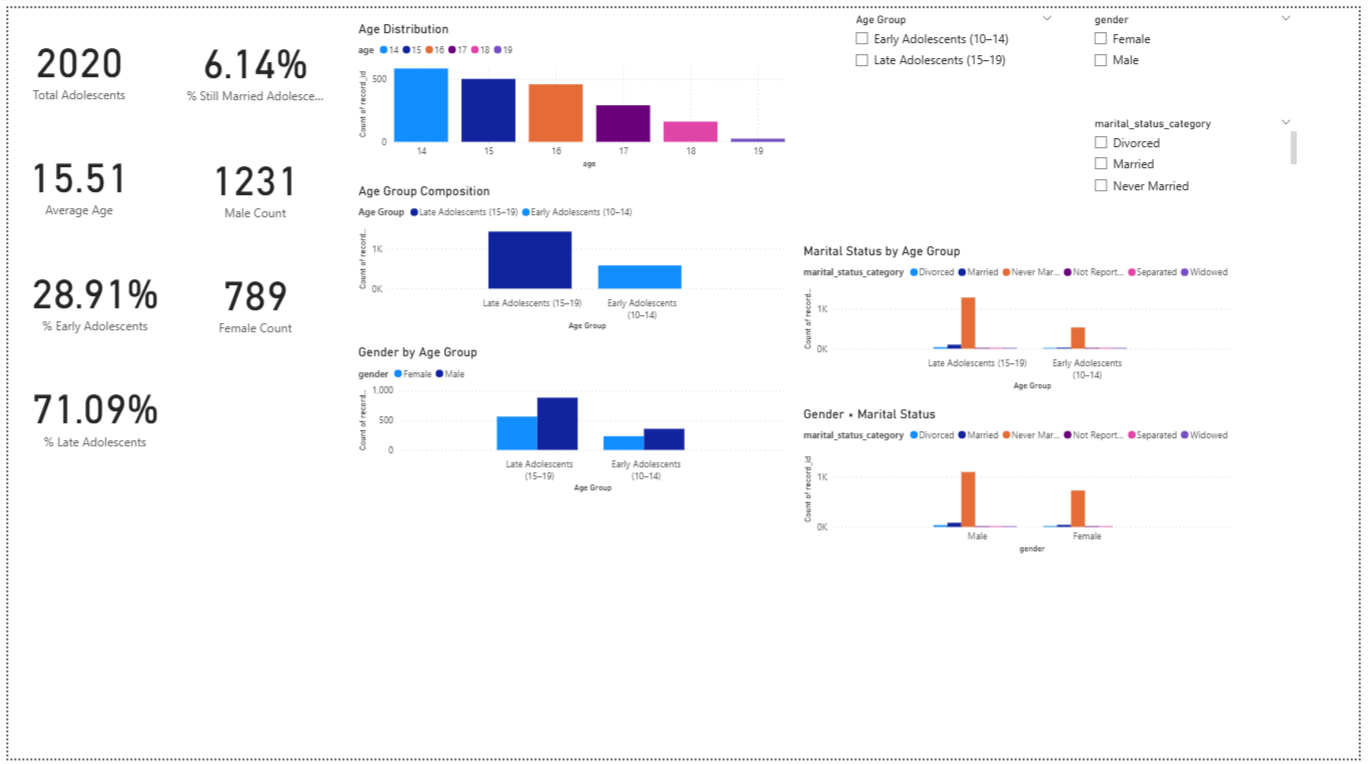

The dashboard page shown, as its layout file describes it:
{"tool":"powerbi","page":{"name":"Dashboard 1 — Population & Demographic Overview","canvas":[1800,1000],"ordinal":0},"visuals":[{"type":"card","fields":{"Values":["FINAL_Clean_Dataset.Total Adolescents"]},"box":[10,0,169,154],"z":0},{"type":"card","fields":{"Values":["FINAL_Clean_Dataset.Average Age"]},"box":[10,154,169,154],"z":1000},{"type":"card","fields":{"Values":["FINAL_Clean_Dataset.% Early Adolescents"]},"box":[10.5,308.1,211.6,153.5],"z":2000},{"type":"card","fields":{"Values":["FINAL_Clean_Dataset.% Late Adolescents"]},"box":[10.5,461.6,211.6,154.7],"z":3000},{"type":"card","fields":{"Values":["Sum(FINAL_Clean_Dataset.% Still Married Adolescents)"]},"box":[232.2,1.9,195,154],"z":4000},{"type":"card","fields":{"Values":["FINAL_Clean_Dataset.Male Count"]},"box":[232.2,155.9,195,154],"z":5000},{"type":"card","fields":{"Values":["FINAL_Clean_Dataset.Female Count"]},"box":[232.2,309.9,195,154],"z":6000},{"type":"columnChart","title":"Age Distribution","fields":{"Category":["FINAL_Clean_Dataset.age"],"Y":["CountNonNull(FINAL_Clean_Dataset.record_id)"],"Series":["FINAL_Clean_Dataset.age"]},"box":[461.4,17.1,578.6,201.4],"z":7000},{"type":"columnChart","title":"Age Group Composition","fields":{"Category":["FINAL_Clean_Dataset.Age Group"],"Y":["CountNonNull(FINAL_Clean_Dataset.record_id)"],"Series":["FINAL_Clean_Dataset.Age Group"]},"box":[461.4,232.9,578.6,201.4],"z":8000},{"type":"clusteredColumnChart","title":"Gender by Age Group","fields":{"Y":["CountNonNull(FINAL_Clean_Dataset.record_id)"],"Category":["FINAL_Clean_Dataset.Age Group"],"Series":["FINAL_Clean_Dataset.gender"]},"box":[461.4,448.6,578.6,201.4],"z":9000},{"type":"clusteredColumnChart","title":"Marital Status by Age Group","fields":{"Category":["FINAL_Clean_Dataset.Age Group"],"Series":["FINAL_Clean_Dataset.marital_status_category"],"Y":["CountNonNull(FINAL_Clean_Dataset.record_id)"]},"box":[1055.7,314,578.6,201.4],"z":10000},{"type":"clusteredColumnChart","title":"Gender × Marital Status","fields":{"Category":["FINAL_Clean_Dataset.gender"],"Series":["FINAL_Clean_Dataset.marital_status_category"],"Y":["CountNonNull(FINAL_Clean_Dataset.record_id)"]},"box":[1055.7,529.7,578.6,201.4],"z":11000},{"type":"slicer","fields":{"Values":["FINAL_Clean_Dataset.Age Group"]},"box":[1117.1,1.4,287.1,117.1],"z":12000},{"type":"slicer","fields":{"Values":["FINAL_Clean_Dataset.gender"]},"box":[1434.3,1.4,287.1,117.1],"z":13000},{"type":"slicer","fields":{"Values":["FINAL_Clean_Dataset.marital_status_category"]},"box":[1434.3,140,287.1,117.1],"z":14000}]}

Visuals, with their boxes in screenshot pixels (x1, y1, x2, y2), scaled from the page's 1800x1000 canvas onto the 1368x764 screenshot:
card - FINAL_Clean_Dataset.Total Adolescents: x1=8 y1=0 x2=136 y2=118
card - FINAL_Clean_Dataset.Average Age: x1=8 y1=118 x2=136 y2=235
card - FINAL_Clean_Dataset.% Early Adolescents: x1=8 y1=235 x2=169 y2=353
card - FINAL_Clean_Dataset.% Late Adolescents: x1=8 y1=353 x2=169 y2=471
card - Sum(FINAL_Clean_Dataset.% Still Married Adolescents): x1=176 y1=1 x2=325 y2=119
card - FINAL_Clean_Dataset.Male Count: x1=176 y1=119 x2=325 y2=237
card - FINAL_Clean_Dataset.Female Count: x1=176 y1=237 x2=325 y2=354
"Age Distribution" columnChart: x1=351 y1=13 x2=790 y2=167
"Age Group Composition" columnChart: x1=351 y1=178 x2=790 y2=332
"Gender by Age Group" clusteredColumnChart: x1=351 y1=343 x2=790 y2=497
"Marital Status by Age Group" clusteredColumnChart: x1=802 y1=240 x2=1242 y2=394
"Gender × Marital Status" clusteredColumnChart: x1=802 y1=405 x2=1242 y2=559
slicer - FINAL_Clean_Dataset.Age Group: x1=849 y1=1 x2=1067 y2=91
slicer - FINAL_Clean_Dataset.gender: x1=1090 y1=1 x2=1308 y2=91
slicer - FINAL_Clean_Dataset.marital_status_category: x1=1090 y1=107 x2=1308 y2=196
